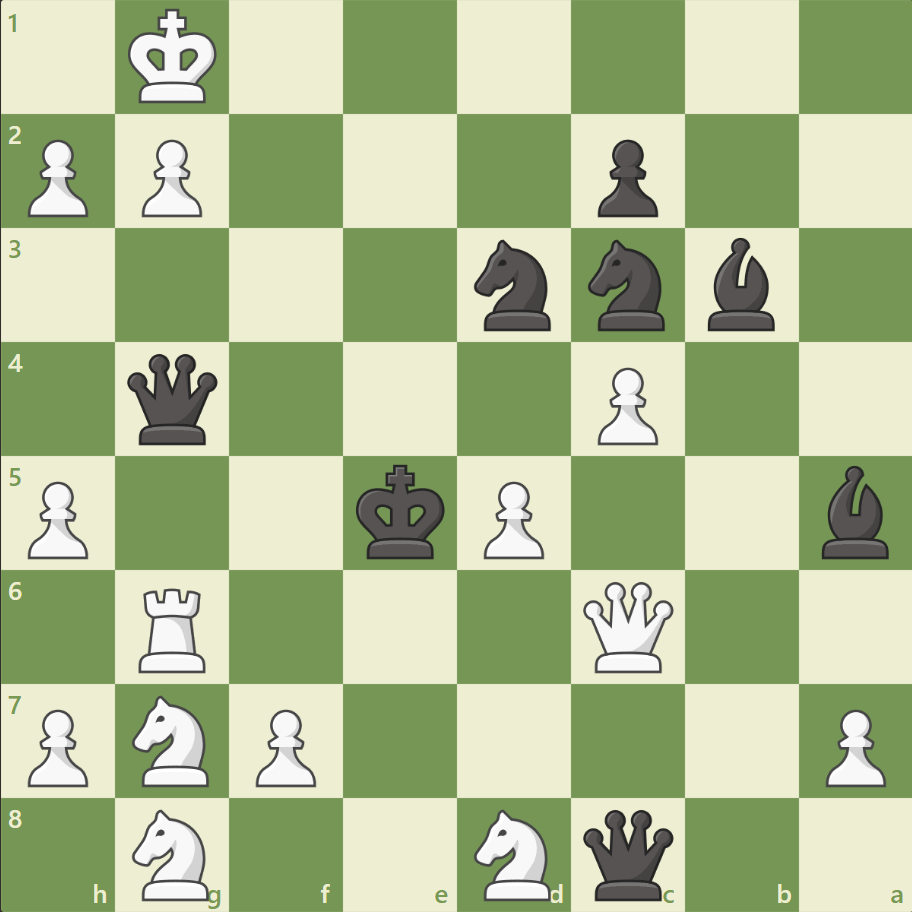K: (124, 4, 224, 112)
N: (124, 688, 222, 791), (124, 802, 222, 904), (465, 802, 562, 904)
P: (247, 700, 322, 791), (20, 700, 95, 791), (474, 473, 549, 564), (20, 473, 95, 564), (133, 132, 208, 223), (20, 132, 95, 223), (815, 700, 889, 791), (588, 359, 662, 450)
Q: (578, 576, 677, 676)
R: (133, 579, 215, 676)
b: (812, 460, 896, 563), (698, 233, 782, 336)
k: (351, 458, 451, 566)
n: (579, 234, 676, 337), (465, 234, 562, 337)
p: (588, 132, 662, 223)
q: (124, 349, 223, 449), (578, 804, 677, 903)
